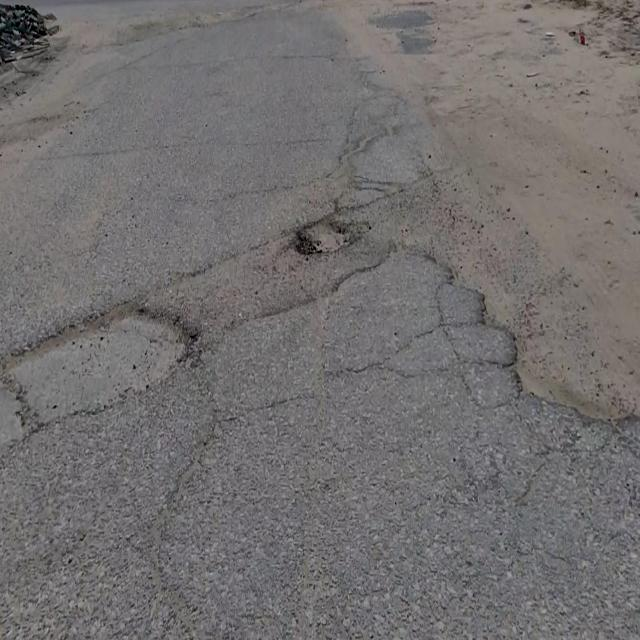Potholes: (0, 306, 196, 433), (489, 307, 640, 433), (295, 217, 363, 259)
